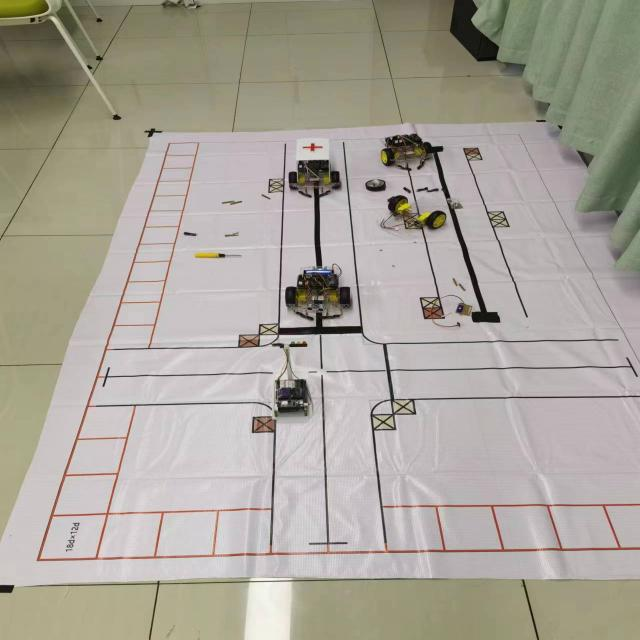RedCross: (301, 142, 324, 152)
